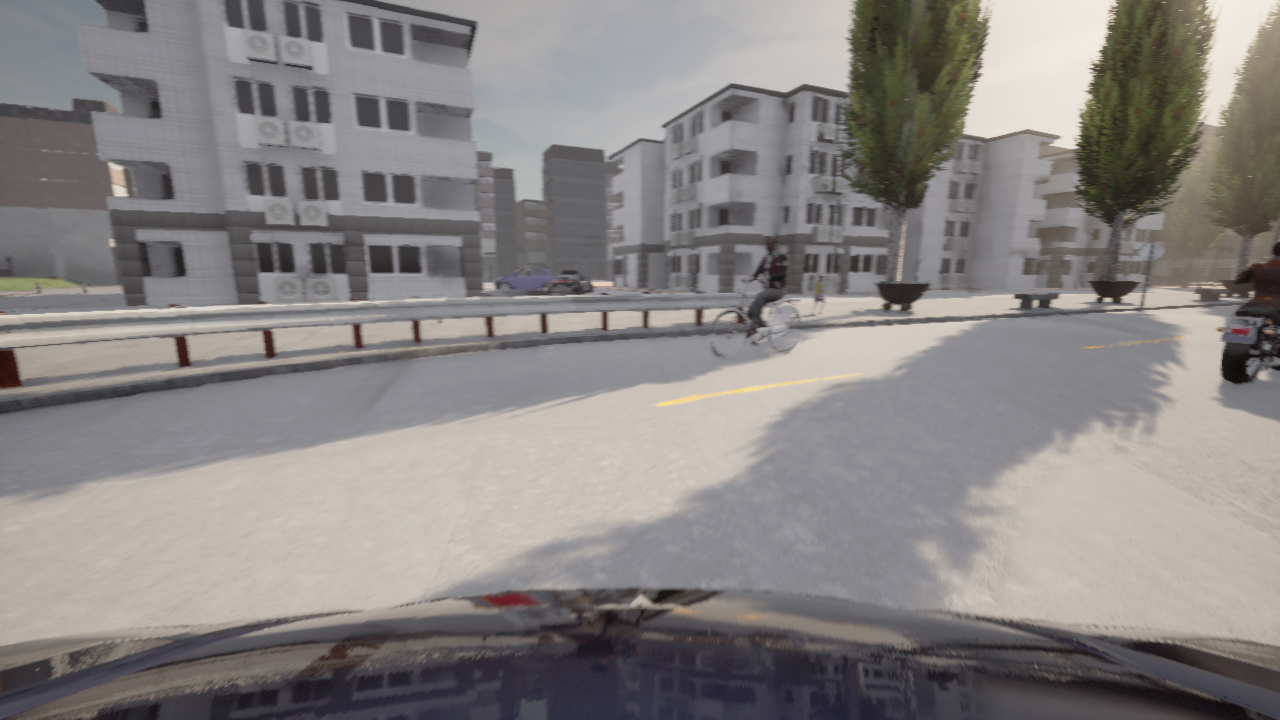cyclist: (0, 588, 1279, 719), (710, 279, 802, 359), (1216, 285, 1279, 384), (495, 267, 553, 292), (547, 271, 592, 293), (548, 280, 577, 282)
pedestrian: (811, 274, 825, 315)
